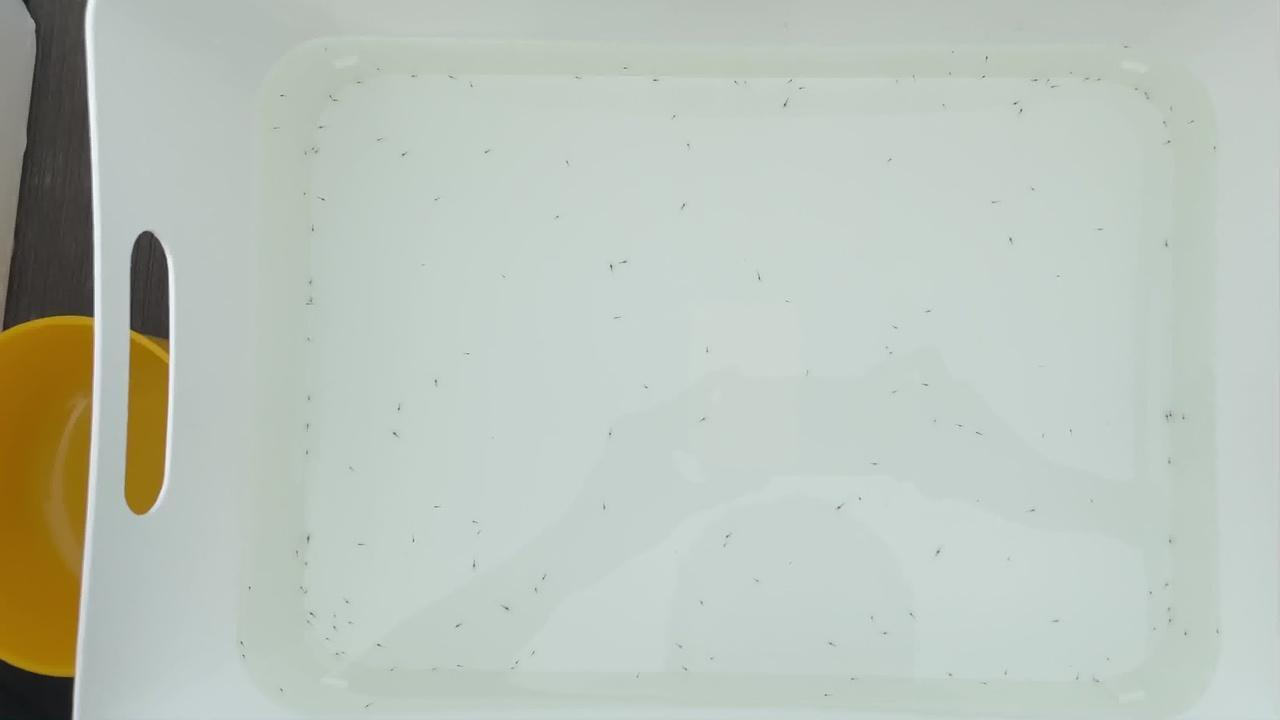shrimp: (1143, 96, 1156, 104), (1063, 69, 1076, 77), (907, 69, 920, 77), (892, 80, 905, 88), (316, 124, 329, 132), (375, 135, 388, 143), (303, 334, 316, 342), (299, 451, 312, 459), (390, 429, 403, 437), (606, 262, 619, 270), (304, 534, 317, 542), (277, 683, 290, 691), (240, 650, 253, 658), (450, 622, 463, 630), (432, 666, 445, 674), (531, 584, 544, 592), (722, 534, 735, 542), (633, 672, 646, 680), (1213, 628, 1226, 636), (1160, 583, 1173, 591), (986, 201, 999, 209), (881, 345, 894, 353), (888, 390, 901, 398), (929, 417, 942, 425), (1088, 495, 1101, 503), (931, 550, 944, 558), (459, 351, 472, 359), (784, 74, 796, 82), (729, 79, 741, 87), (429, 378, 441, 386), (247, 583, 259, 591), (541, 572, 553, 580), (706, 655, 718, 663), (751, 273, 763, 281), (784, 301, 796, 309), (923, 307, 935, 315), (867, 462, 879, 470), (1208, 143, 1221, 150), (1162, 139, 1175, 146), (1187, 116, 1200, 123), (1159, 123, 1172, 130), (1141, 89, 1154, 96), (1119, 41, 1132, 48), (1078, 75, 1091, 82), (1043, 78, 1056, 85), (1008, 101, 1021, 108), (1016, 109, 1029, 116), (981, 53, 994, 60), (942, 73, 955, 80), (938, 102, 951, 109), (796, 85, 809, 92), (780, 104, 793, 111), (650, 79, 663, 86), (621, 64, 634, 71), (572, 71, 585, 78), (666, 113, 679, 120), (682, 140, 695, 147), (679, 204, 692, 211), (480, 149, 493, 156), (467, 82, 480, 89), (373, 64, 386, 71), (354, 78, 367, 85), (327, 97, 340, 104), (276, 96, 289, 103), (269, 125, 282, 132), (311, 150, 324, 157), (299, 149, 312, 156), (398, 147, 411, 154), (431, 193, 444, 200), (317, 194, 330, 201), (298, 192, 311, 199), (303, 279, 316, 286), (307, 301, 320, 308), (304, 394, 317, 401), (304, 423, 317, 430), (391, 403, 404, 410), (550, 215, 563, 222), (610, 318, 623, 325), (301, 561, 314, 568), (296, 580, 309, 587), (303, 589, 316, 596), (307, 608, 320, 615), (301, 618, 314, 625), (331, 652, 344, 659), (320, 633, 333, 640), (329, 625, 342, 632), (344, 618, 357, 625), (341, 597, 354, 604), (333, 613, 346, 620), (236, 635, 249, 642), (430, 505, 443, 512), (475, 529, 488, 536), (387, 666, 400, 673), (371, 643, 384, 650), (507, 663, 520, 670), (515, 660, 528, 667), (526, 647, 539, 654), (497, 608, 510, 615), (603, 503, 616, 510), (601, 434, 614, 441), (696, 419, 709, 426), (642, 385, 655, 392), (696, 599, 709, 606), (677, 643, 690, 650), (749, 579, 762, 586), (827, 637, 840, 644), (821, 692, 834, 699), (849, 674, 862, 681), (881, 631, 894, 638), (909, 612, 922, 619), (945, 671, 958, 678), (977, 679, 990, 686), (998, 671, 1011, 678), (1075, 676, 1088, 683), (1103, 657, 1116, 664), (1180, 632, 1193, 639), (1161, 618, 1174, 625), (1163, 603, 1176, 610), (1146, 624, 1159, 631), (1147, 592, 1160, 599), (1164, 462, 1177, 469), (1160, 417, 1173, 424), (1161, 240, 1174, 247), (1096, 226, 1109, 233), (1031, 189, 1044, 196), (1006, 239, 1019, 246), (881, 158, 894, 165), (887, 328, 900, 335), (888, 354, 901, 361), (951, 421, 964, 428), (975, 431, 988, 438), (1029, 508, 1042, 515), (853, 496, 866, 503), (1166, 107, 1178, 114), (1128, 84, 1140, 91), (1094, 75, 1106, 82), (1045, 85, 1057, 92), (1028, 74, 1040, 81), (978, 71, 990, 78), (950, 48, 962, 55), (563, 160, 575, 167), (446, 73, 458, 80), (408, 74, 420, 81), (324, 93, 336, 100), (308, 146, 320, 153), (308, 227, 320, 234), (346, 463, 358, 470), (502, 276, 514, 283), (618, 258, 630, 265), (701, 350, 713, 357), (291, 550, 303, 557), (341, 648, 353, 655), (408, 535, 420, 542), (358, 544, 370, 551), (469, 517, 481, 524), (468, 559, 480, 566), (457, 663, 469, 670), (363, 707, 375, 714), (717, 545, 729, 552), (679, 669, 691, 676), (867, 612, 879, 619), (1050, 620, 1062, 627), (1094, 681, 1106, 688), (1166, 537, 1178, 544), (1166, 411, 1178, 418), (1177, 411, 1189, 418), (922, 381, 934, 388), (1039, 431, 1051, 438), (1067, 428, 1079, 435), (1006, 555, 1018, 562), (834, 507, 846, 514)
